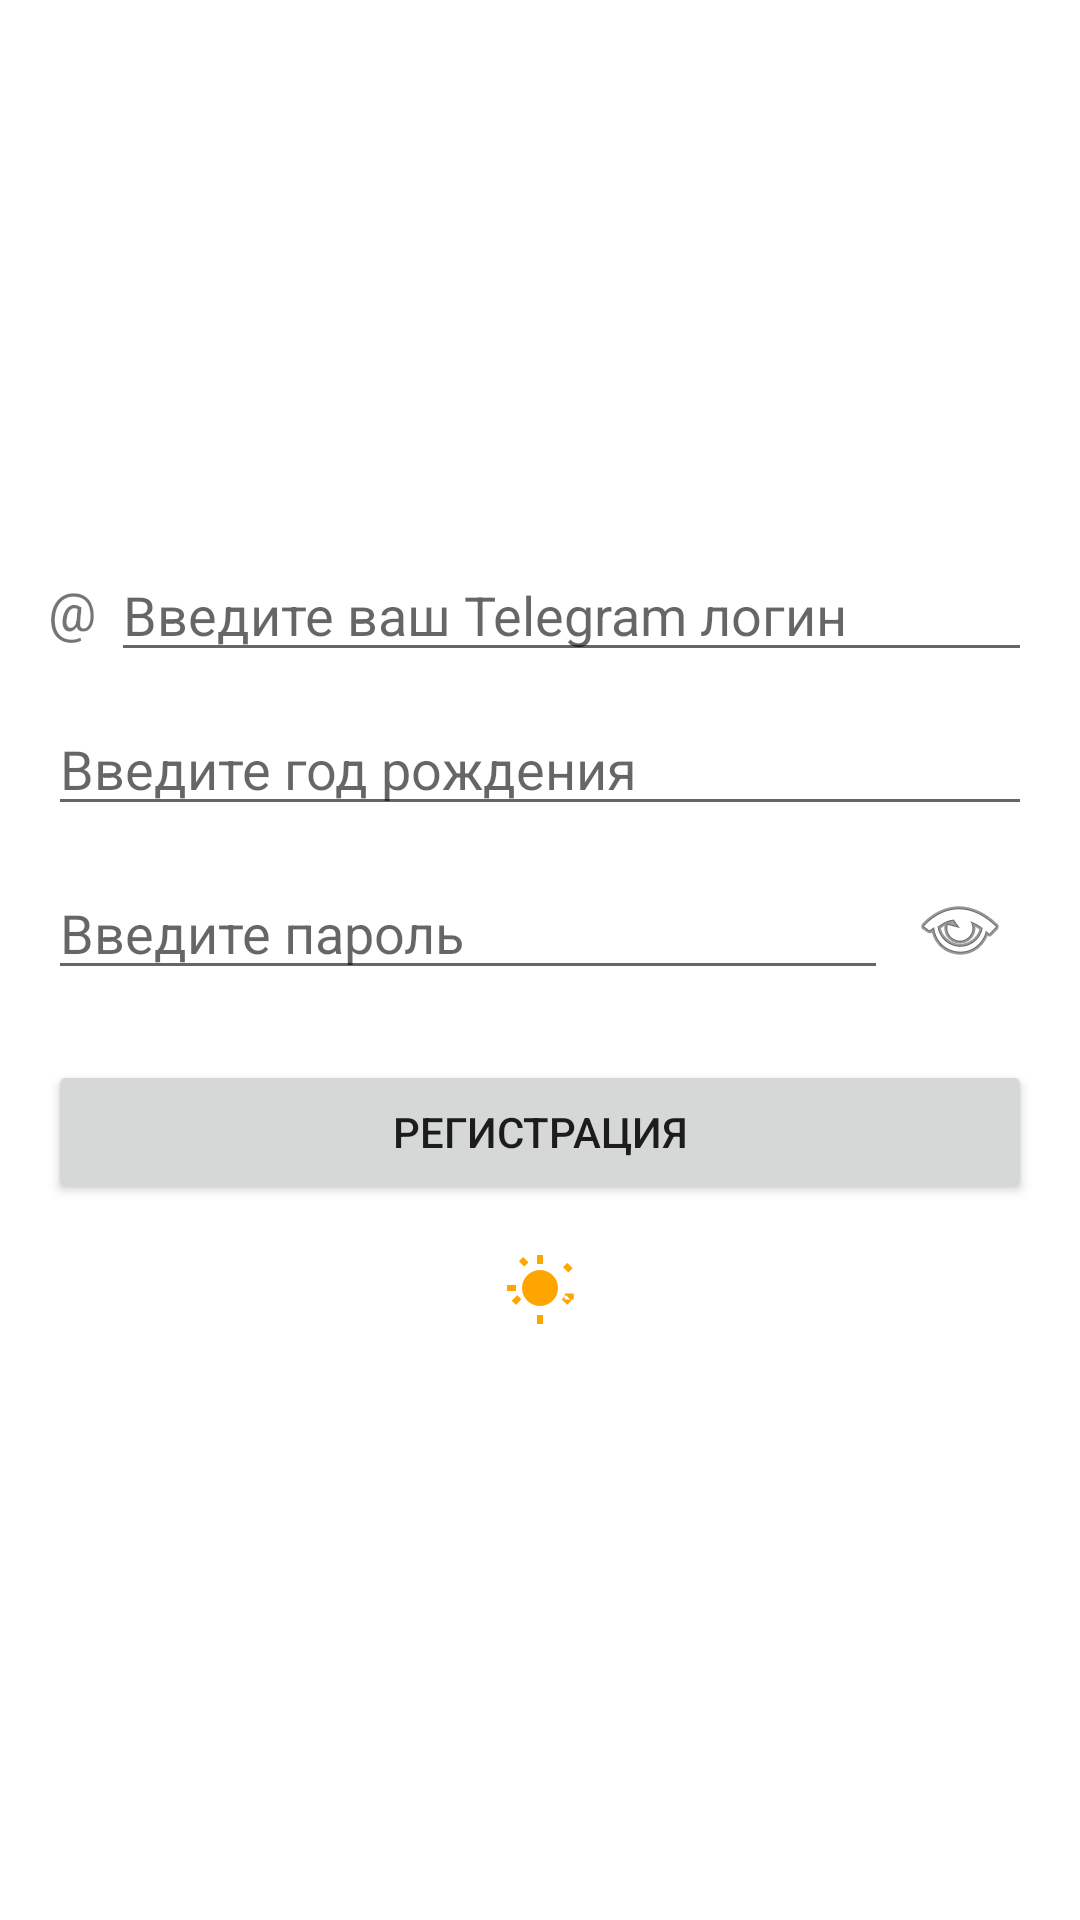

Named icons in this screenshot (1080px x 1920px) and their centers, (x=x, y=y):
sun: (x=540, y=1289)
view: (x=960, y=930)
